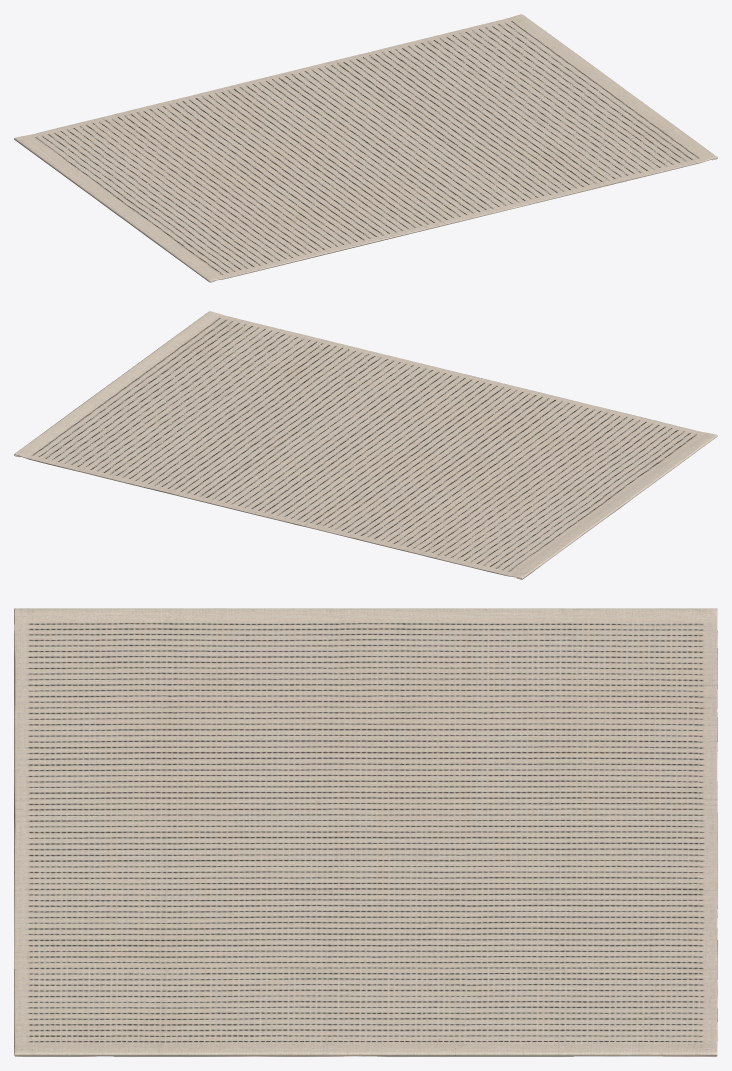
File: starreklinte_dywan_tkany_na_pasko_20569133.glb
3 views of the same model, one above another, from view 1: azimuth 30°, elevation 25°; view 2: azimuth 150°, elevation 25°; view 3: azimuth 270°, elevation 25° (orthographic). The views are drawn at different scales.
Parts seen in each view (by area): view 1: starreklinte_dywan_tkany_na_pasko_20569133; view 2: starreklinte_dywan_tkany_na_pasko_20569133; view 3: starreklinte_dywan_tkany_na_pasko_20569133.
Part boxes in pixels (<box>): starreklinte_dywan_tkany_na_pasko_20569133: <box>14,14,717,282</box>; starreklinte_dywan_tkany_na_pasko_20569133: <box>14,311,717,579</box>; starreklinte_dywan_tkany_na_pasko_20569133: <box>14,608,717,1056</box>.
Size of the model in its own units: 1.8 by 0.00822 by 1.2.
Materials: 1 (1 with a texture image).
